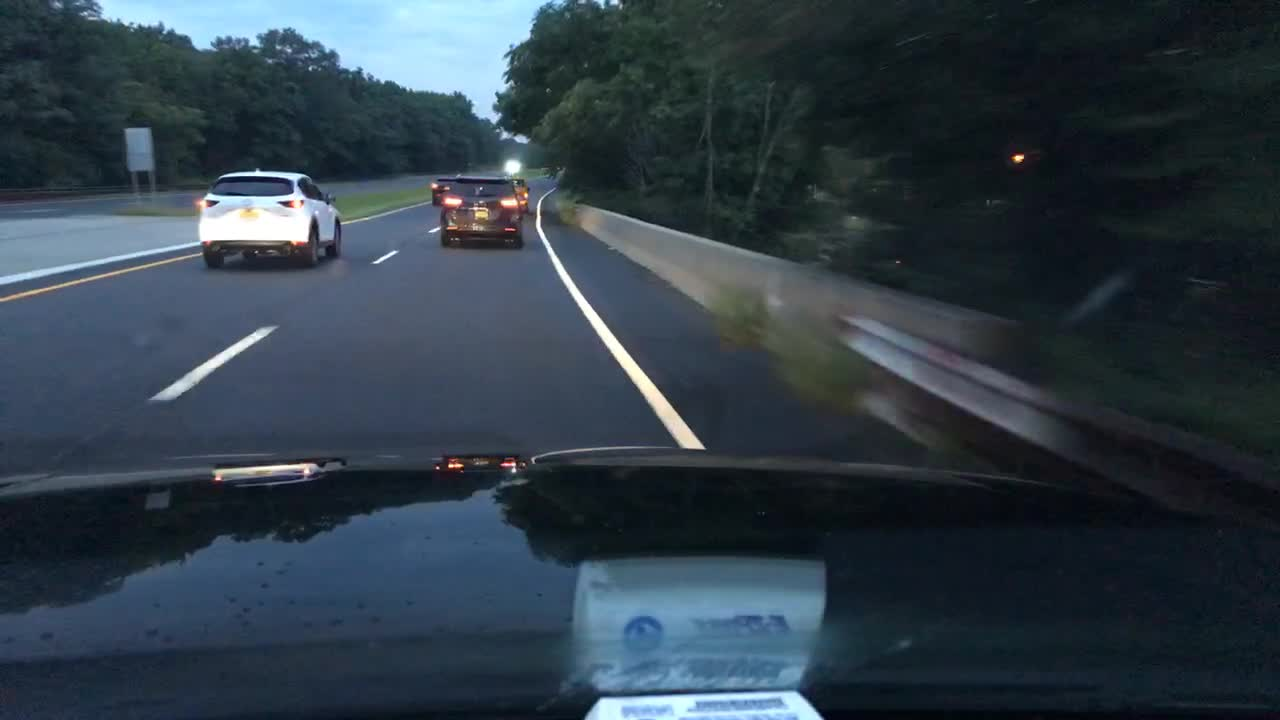car: (198, 170, 344, 268), (441, 174, 525, 245), (509, 174, 532, 210), (428, 177, 455, 206)
